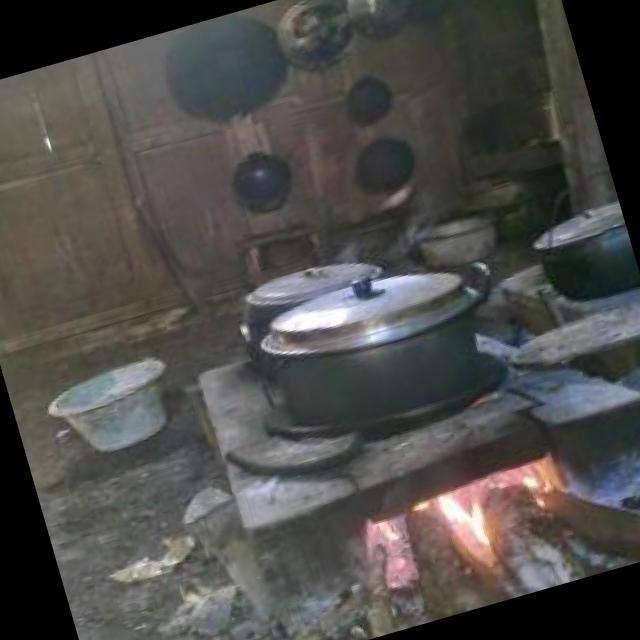fire: (365, 462, 567, 564)
